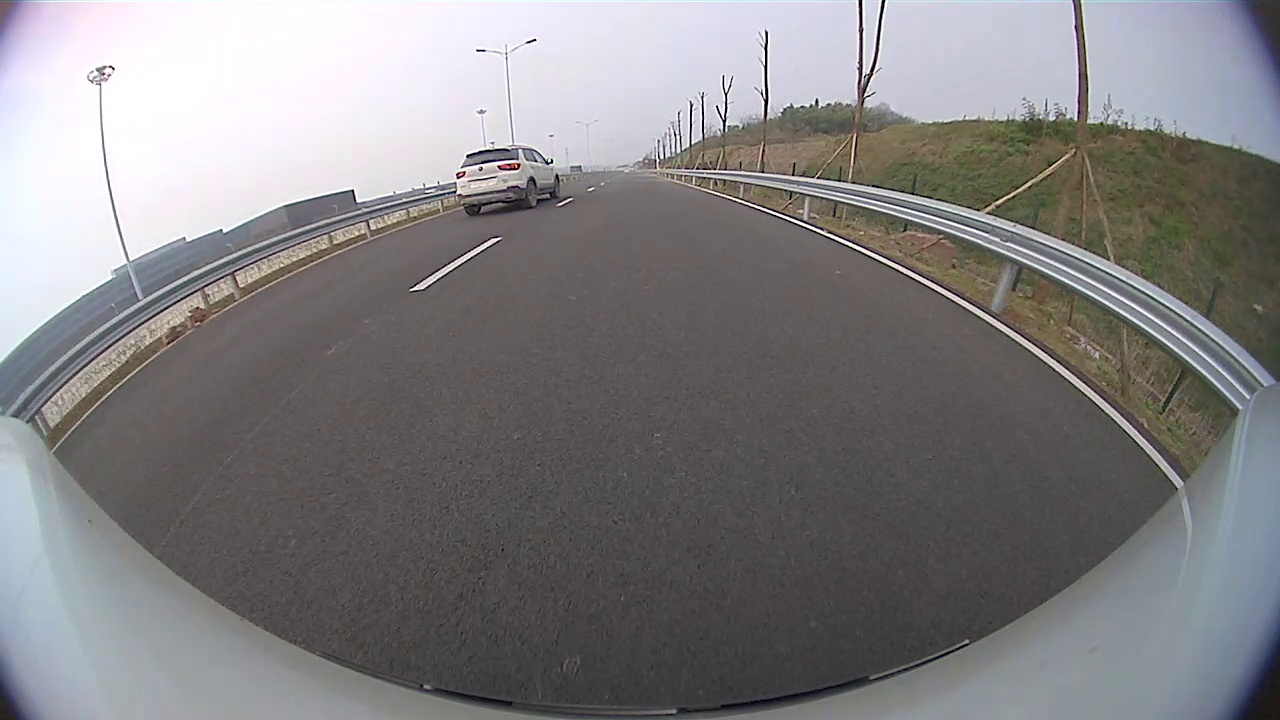car: (453, 144, 562, 218)
rear: (525, 179, 539, 208)
